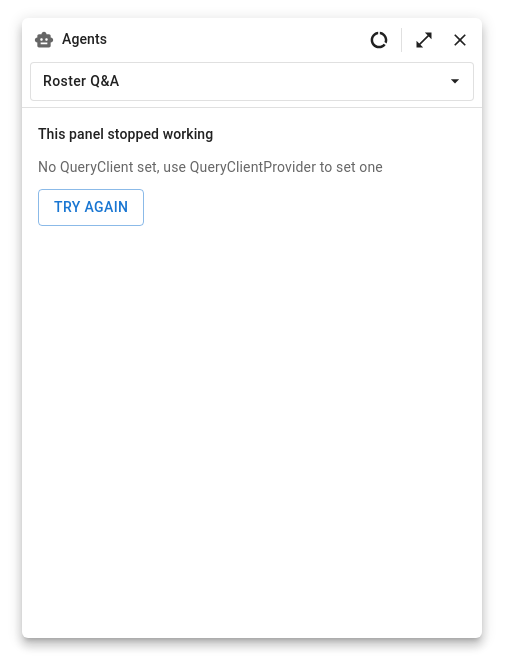
Test case: Shortlist tab › renders requirements and ranked candidate cards from the response
Click the button "Roster Q&A". click: (81, 81)
box: [30,62,474,100]
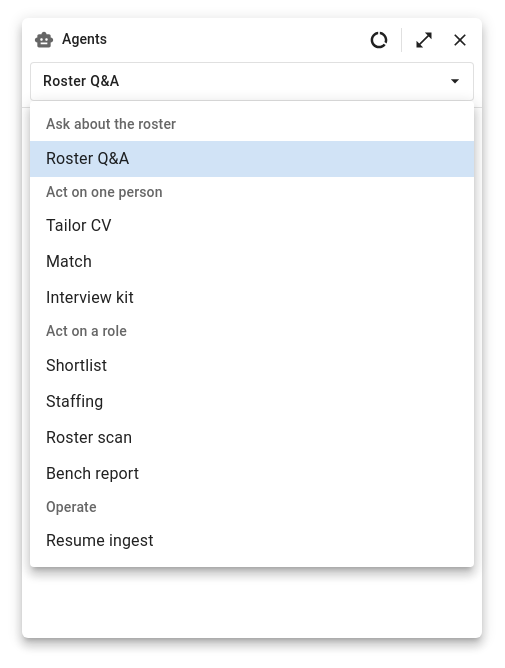
Click the menu item "Shortlist". click: (77, 365)
box: [46,356,107,374]
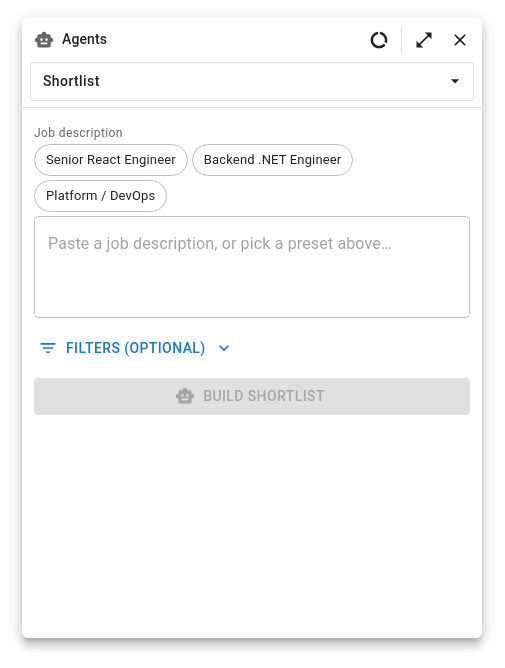
Type "Senior React engineer" into the text box with placeholder "Paste a job description, or pick a preset above…". click: (252, 266)
box: [48,232,456,301]
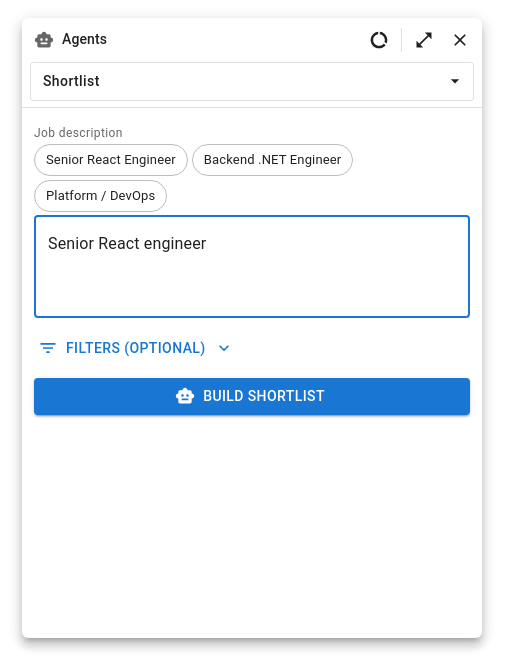
Click the button "Build shortlist". click: (252, 396)
box: [34,378,470,414]
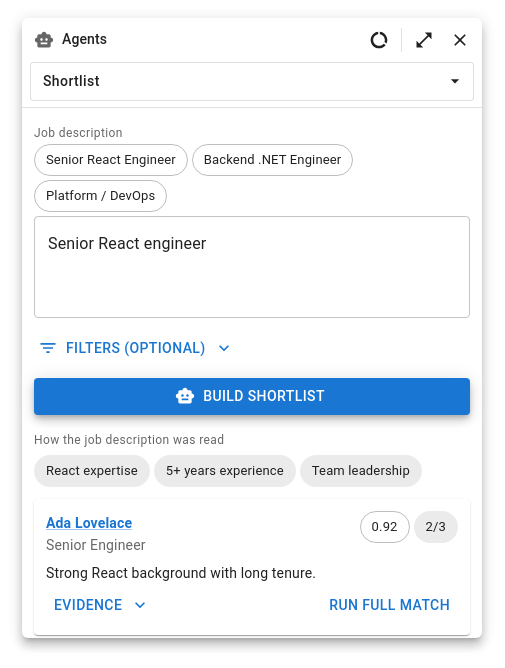
Expected: the text "How the job description was read" is shown, [34,432,224,446]
Expected: the text "Team leadership" is shown, [312,463,410,478]
Expected: the text "Senior Engineer" is shown, [46,534,146,554]
